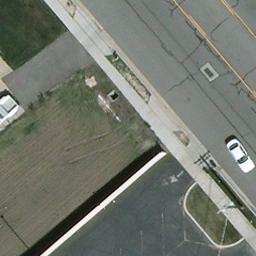car: (224, 138, 255, 174)
pickup: (0, 95, 20, 135)
